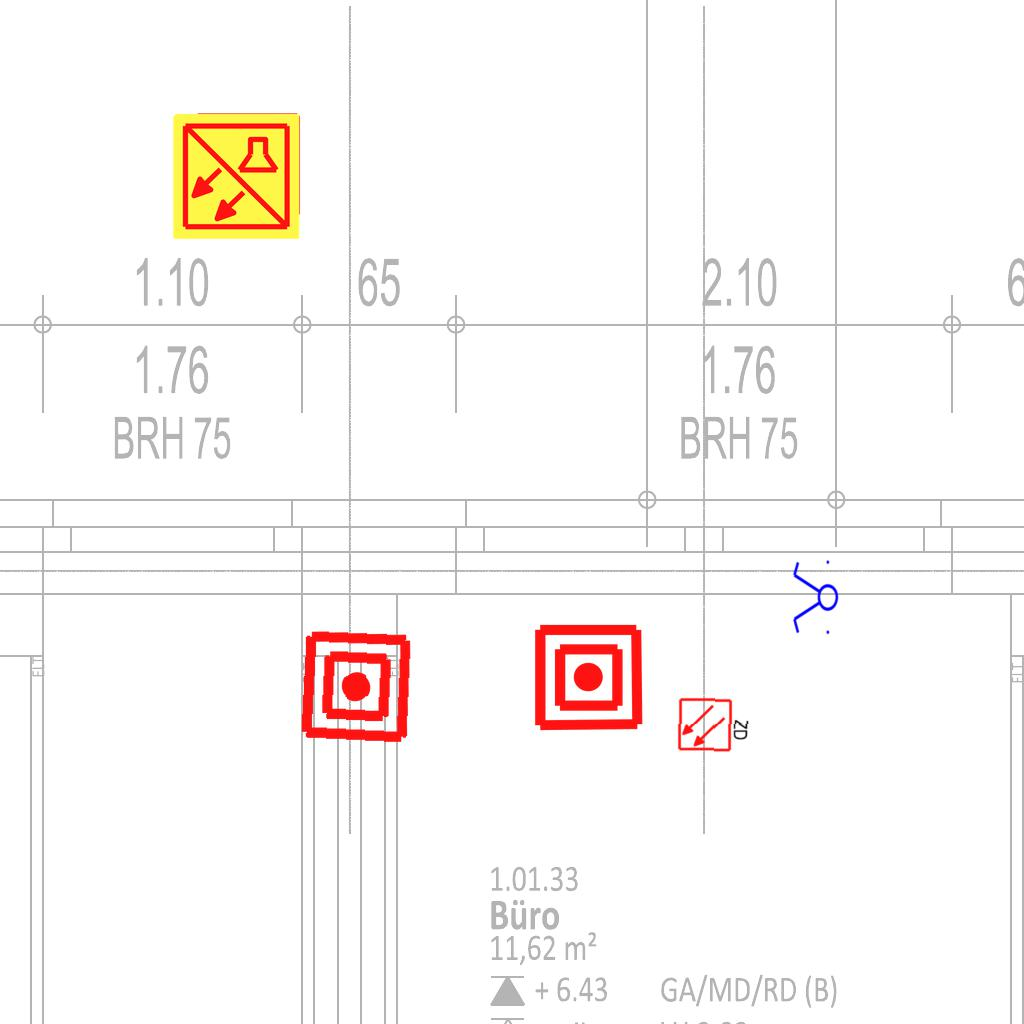NAM-Nichtautomatischer_Melder: (297, 627, 416, 746), (532, 621, 645, 734)
OKW_Multisensormelder_(Kombination_optischer_Rauch-Kahlenmonoxid_Waerme-Melder): (170, 110, 302, 242)
Serienschalter: (791, 556, 839, 640)
ZD_Melder_in_Zwischendecke_mit_Revisionsoeffnung_mind_40_x_40_cm: (677, 694, 752, 754)
